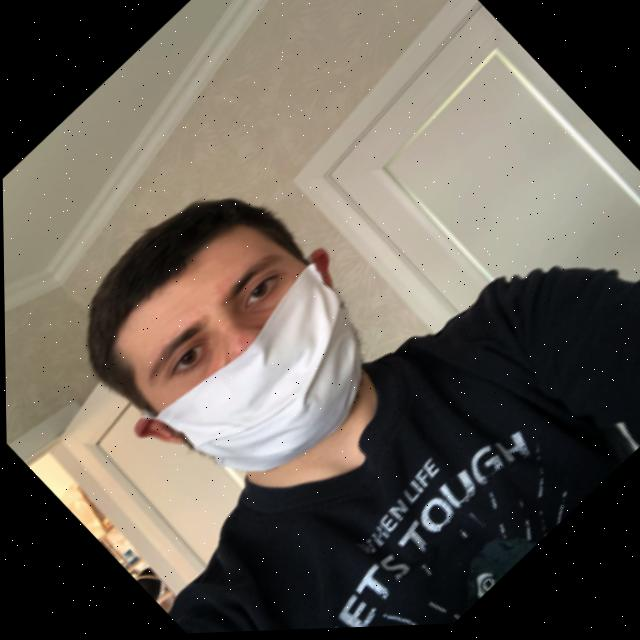Mask: (104, 216, 426, 538)
